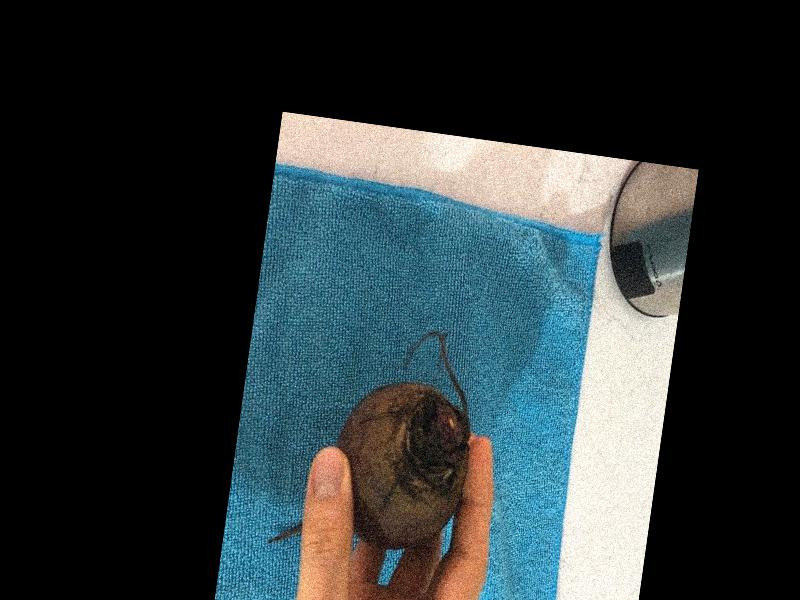Beet: (268, 314, 483, 567)
